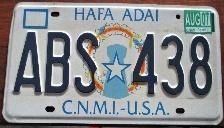3: (160, 31, 185, 95)
4: (131, 31, 159, 98)
8: (189, 32, 215, 96)
A: (10, 30, 43, 99)
B: (43, 30, 73, 96)
S: (75, 31, 101, 96)
